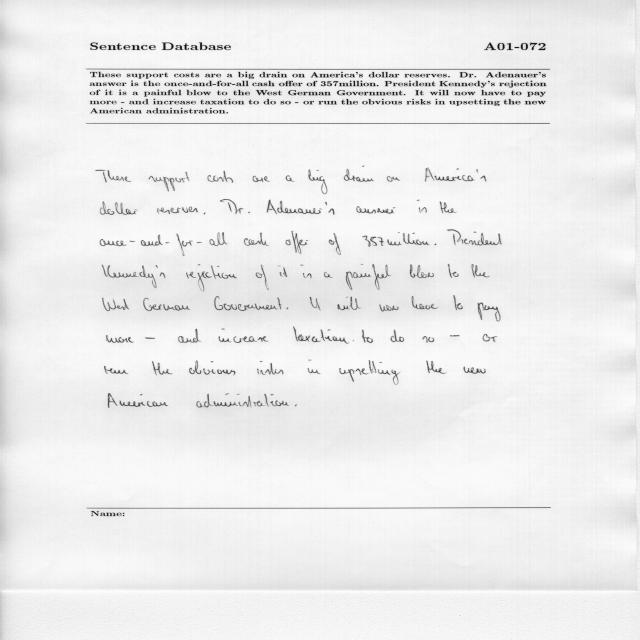word: (100, 232, 228, 256), (339, 360, 400, 385), (102, 265, 166, 288), (186, 264, 237, 292), (197, 393, 290, 408), (346, 264, 391, 290), (267, 200, 335, 215), (214, 296, 282, 311), (362, 232, 429, 247), (293, 327, 354, 343), (425, 167, 486, 182), (108, 393, 168, 408), (447, 230, 502, 246), (149, 172, 190, 192), (219, 328, 268, 343), (189, 361, 235, 376), (143, 298, 190, 311), (286, 231, 309, 254), (101, 201, 137, 215), (344, 166, 374, 182), (309, 170, 328, 195), (96, 170, 131, 183), (220, 199, 250, 214), (478, 303, 501, 322), (257, 361, 284, 375), (412, 296, 439, 309), (103, 298, 129, 311), (410, 264, 434, 278), (244, 233, 269, 246), (256, 265, 269, 290), (178, 329, 201, 343), (152, 361, 173, 376), (207, 171, 233, 183), (357, 206, 396, 214), (338, 297, 361, 310), (157, 207, 198, 214), (471, 264, 490, 278), (329, 233, 341, 255), (426, 361, 446, 374), (106, 335, 134, 343), (105, 366, 129, 374), (440, 202, 456, 213), (300, 265, 312, 278), (391, 330, 404, 342), (448, 264, 459, 278), (464, 367, 486, 374), (453, 296, 463, 311), (310, 297, 321, 310), (362, 330, 373, 343), (379, 305, 399, 312), (417, 200, 427, 213), (483, 334, 497, 342), (252, 176, 270, 182), (278, 266, 287, 277), (423, 336, 435, 343), (387, 176, 400, 182), (308, 368, 321, 374), (285, 176, 294, 182), (324, 272, 332, 278), (145, 337, 155, 339), (450, 335, 460, 337), (204, 213, 206, 215), (287, 308, 289, 310), (295, 405, 297, 407), (435, 244, 437, 245)
